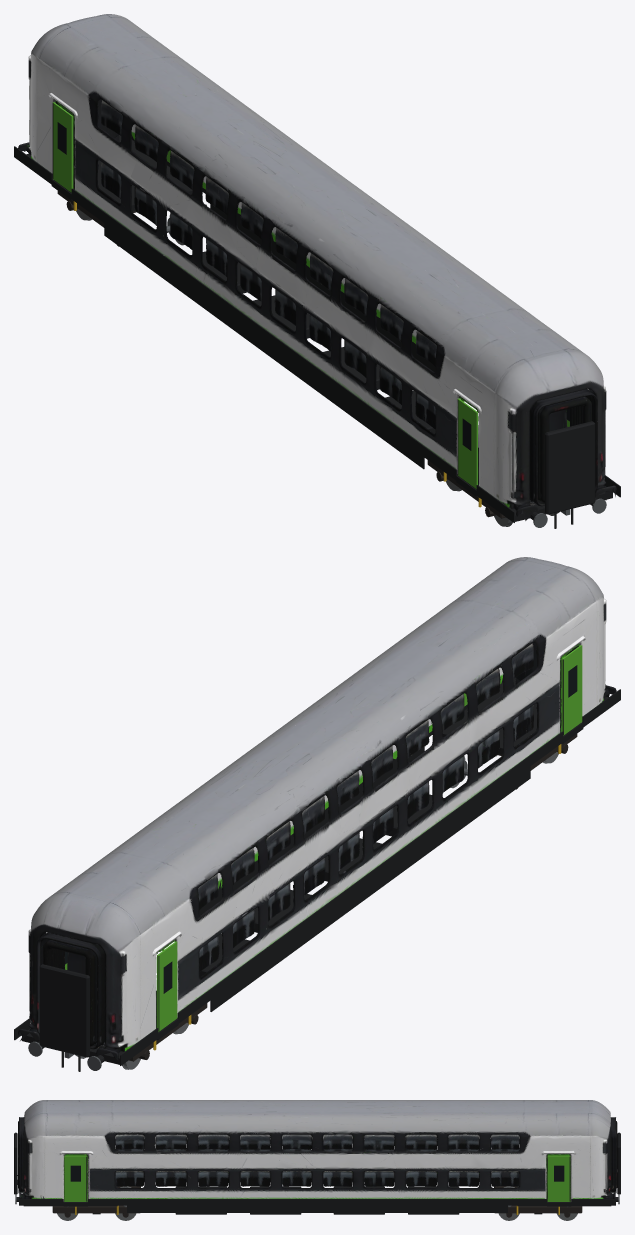
The picture shows the model from 3 angles, top to bottom: view 1: azimuth 30°, elevation 25°; view 2: azimuth 150°, elevation 25°; view 3: azimuth 270°, elevation 25°; orthographic projection. The views are drawn at different scales.
Parts seen in each view (by area): view 1: ed_kori, ed_helma-1, ed_palje-1, Door_L3_p102, Door_L1_m102, ed_helma1, ed_frame1; view 2: ed_kori, ed_helma-1, ed_palje1, Door_L1_m102, Door_L3_p102, ed_helma1, ed_frame-1; view 3: ed_kori, ed_helma1, Door_R2_m102, Door_R4_p102, Bogie_F_side1, Bogie_R_side1, ed_helmap1110.9, ed_helmap-1110.9, ed_helmap118.2, ed_helmap-118.2, ed_palje1, ed_palje-1 (+2 smaller).
Part boxes in pixels (x1,y1,x2,y2): ed_kori: (18,14,616,520); ed_helma-1: (104,212,424,469); ed_palje-1: (545,421,595,514); Door_L3_p102: (52,102,73,192); Door_L1_m102: (457,398,477,488); ed_helma1: (210,204,435,371); ed_frame1: (26,135,192,211); ed_kori: (18,557,616,1060); ed_helma-1: (210,755,530,1011); ed_palje1: (39,964,89,1057); Door_L1_m102: (561,645,582,735); Door_L3_p102: (157,941,177,1031); ed_helma1: (199,747,424,915); ed_frame-1: (442,677,608,754); ed_kori: (17,1100,617,1201); ed_helma1: (127,1199,507,1212); Door_R2_m102: (64,1156,87,1201); Door_R4_p102: (547,1156,570,1201); Bogie_F_side1: (52,1205,139,1213); Bogie_R_side1: (495,1205,582,1213); ed_helmap1110.9: (571,1199,615,1205); ed_helmap-1110.9: (19,1199,63,1205); ed_helmap118.2: (508,1199,546,1205); ed_helmap-118.2: (88,1199,126,1205); ed_palje1: (617,1132,620,1194); ed_palje-1: (14,1132,17,1194).
Size of the model in its own units: 3.18 by 5.08 by 26.12.
9 materials, 1 textured.
